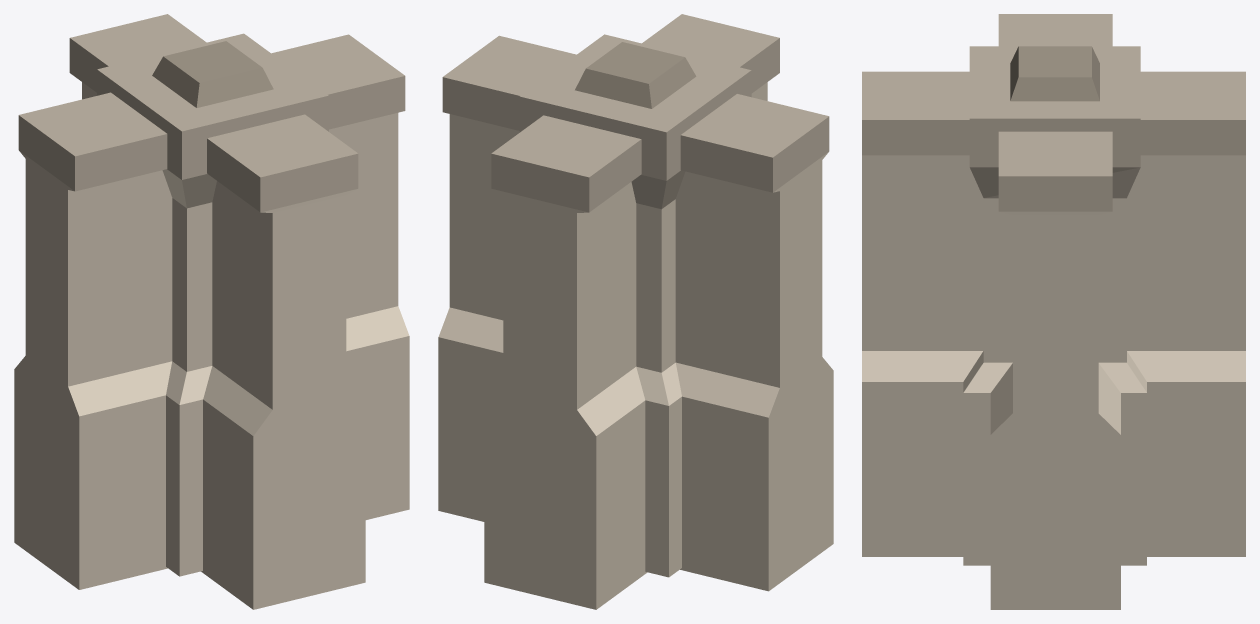
File: Wall_Cross.DAE
The picture shows the model from 3 angles, left to right: view 1: azimuth 30°, elevation 25°; view 2: azimuth 150°, elevation 25°; view 3: azimuth 270°, elevation 25°; orthographic projection.
Visible parts, largest first — view 1: Wall_Cross; view 2: Wall_Cross; view 3: Wall_Cross.
Boxes of the visible parts, left/top/right/bottom form: Wall_Cross: left=14, top=14, right=409, bottom=609; Wall_Cross: left=438, top=14, right=833, bottom=609; Wall_Cross: left=862, top=14, right=1245, bottom=609.
Bounding box in the file's own units: 1 × 1.34 × 1.
